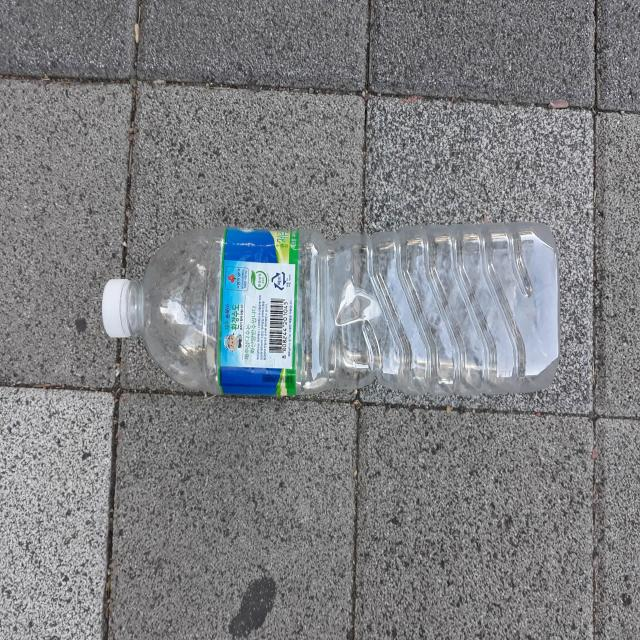plastic: (102, 222, 560, 395)
